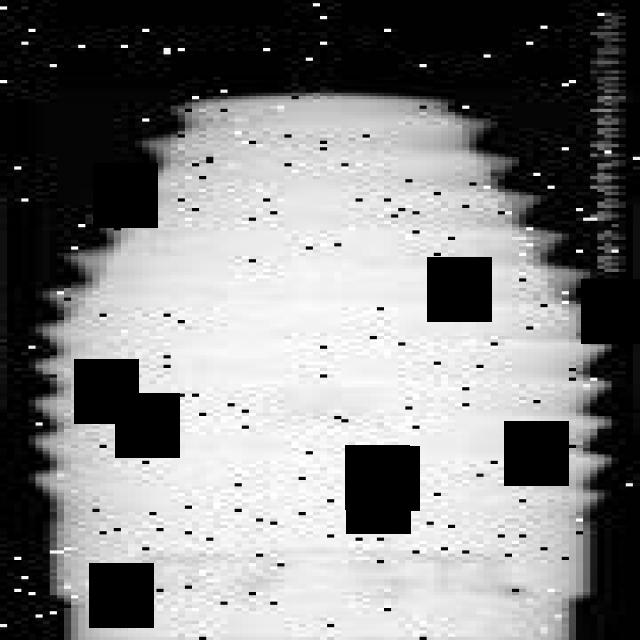Osstem Implant: (36, 90, 612, 640)
